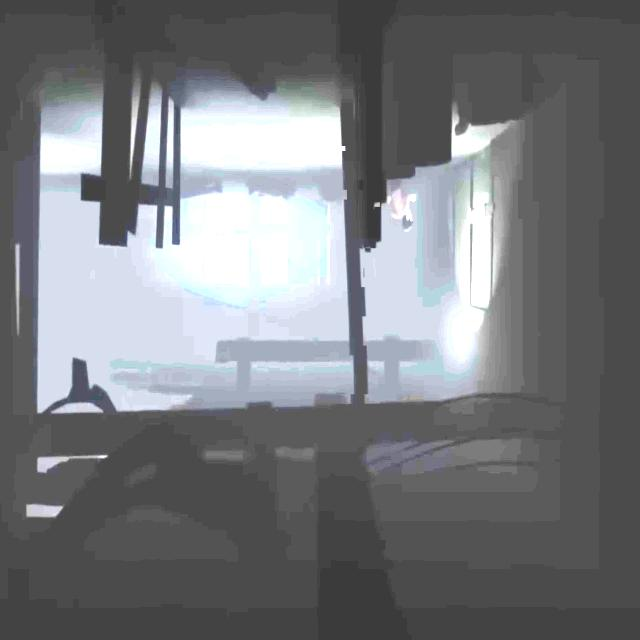boy: (388, 177, 416, 231)
